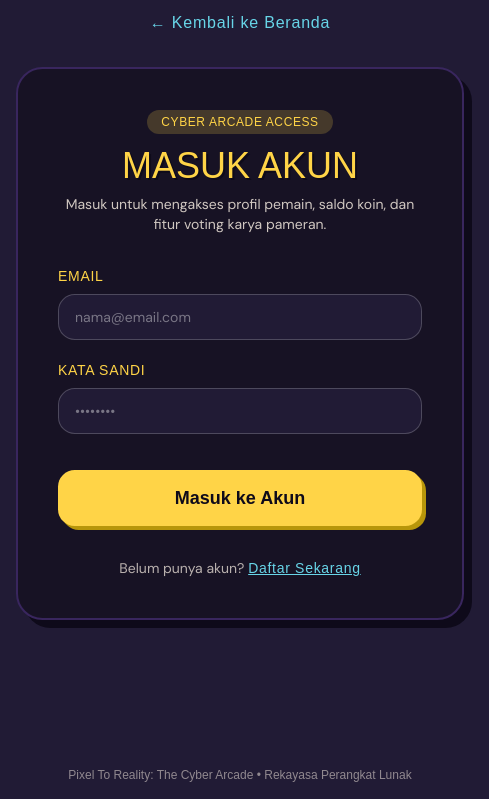
LoginPage (/login) › displays error message when login fails
This screenshot has width=489, height=799.
Type "wrong@test.com" into the field labelled "Email" at (240, 317), box [58, 294, 422, 340]
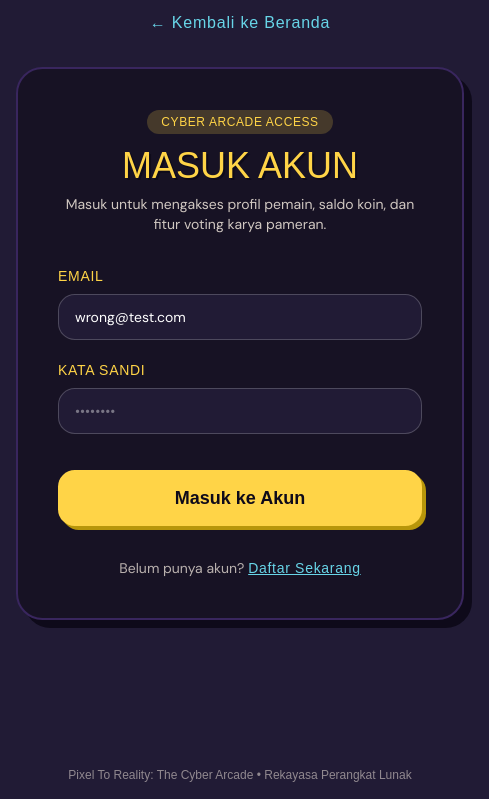
Type "wrongpass" into the password field labelled "Kata Sandi" at (240, 411), box [58, 388, 422, 434]
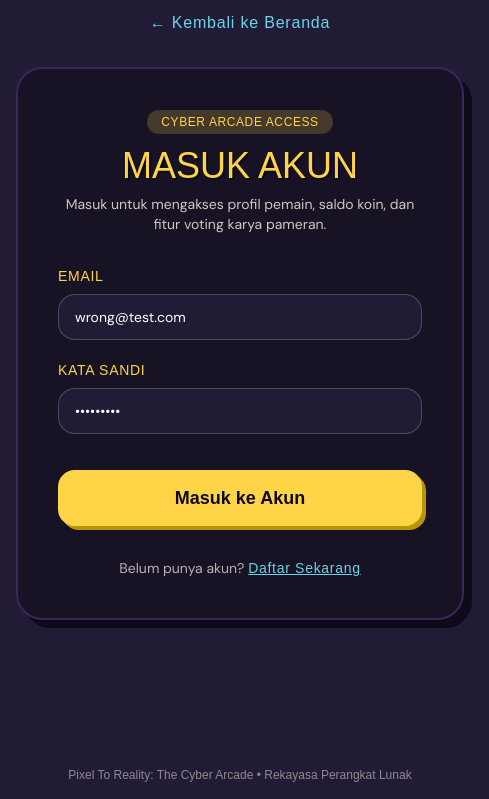
Click the button "Masuk ke Akun" at (240, 498), box [58, 470, 422, 526]
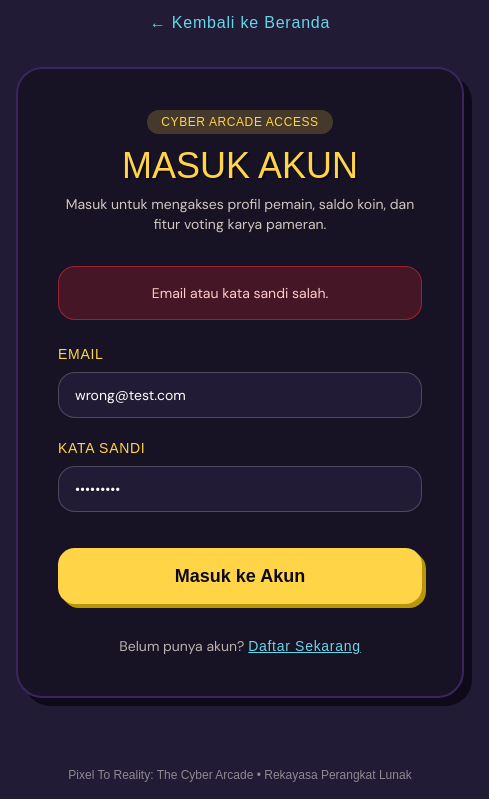
Now the message reads "Email atau kata sandi salah.", box [152, 284, 328, 302]
